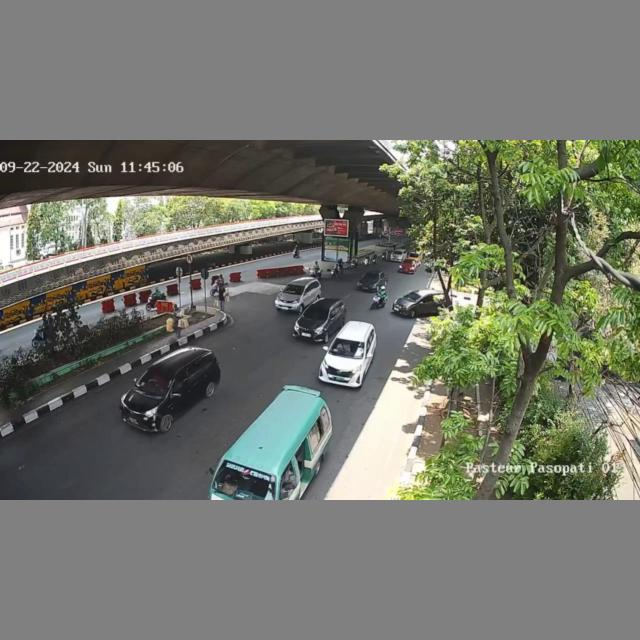windshield: (211, 461, 276, 500), (135, 367, 173, 397), (329, 338, 366, 359), (303, 306, 330, 321), (285, 283, 305, 295), (404, 292, 422, 303)
